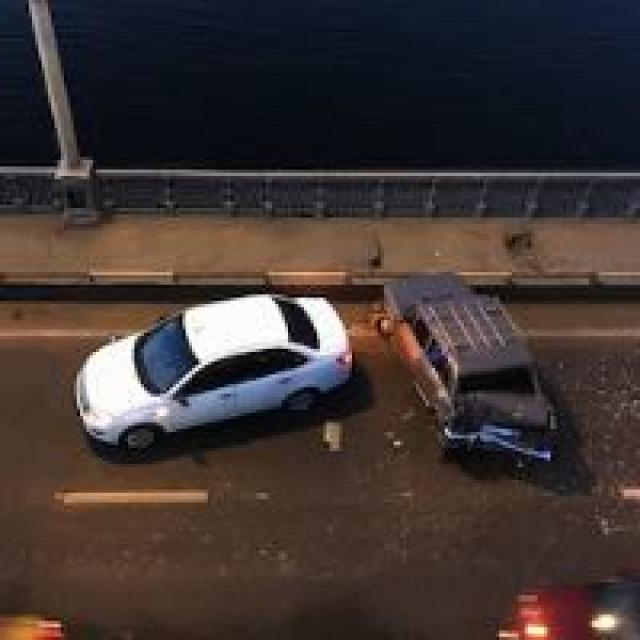traffic_incident: (358, 275, 576, 474)
